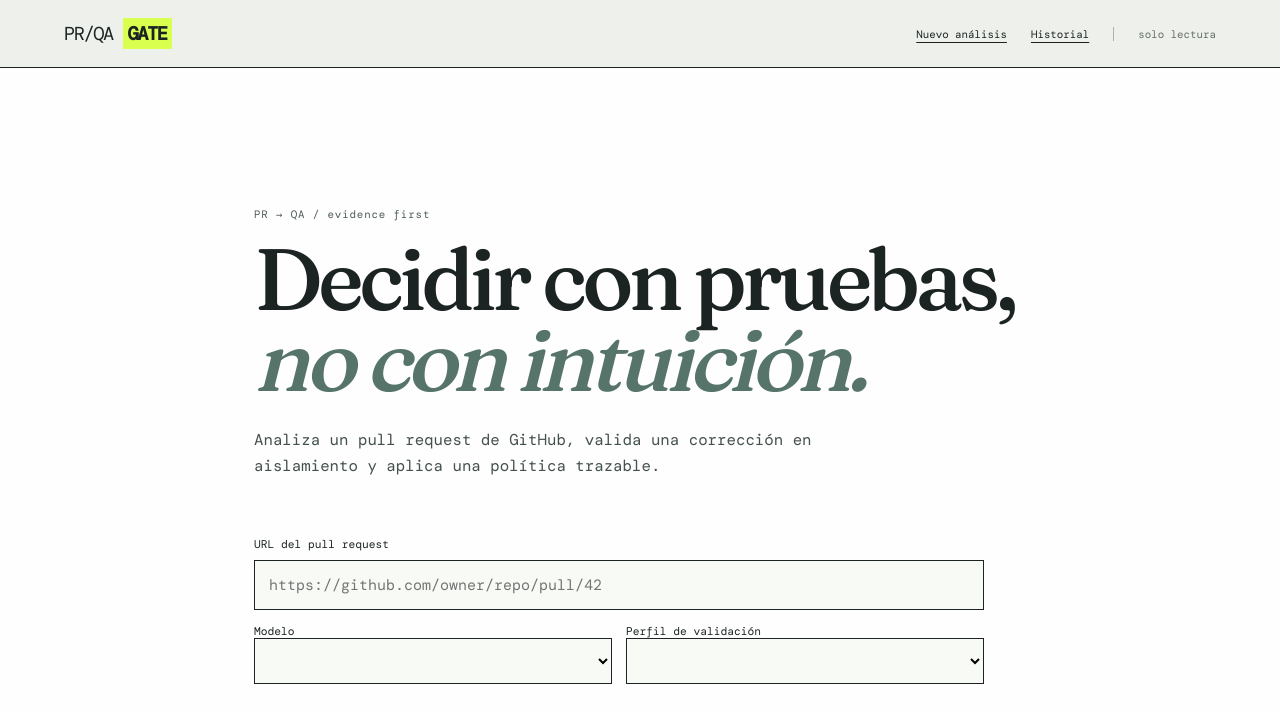
frontend vertical slice › loads profiles, submits analysis and navigates to the simulated report
Type "https://github.com/acme/shop/pull/1" into the field labelled "URL del pull request" at point(619, 585), box [254, 560, 984, 610]
(page scrolled)
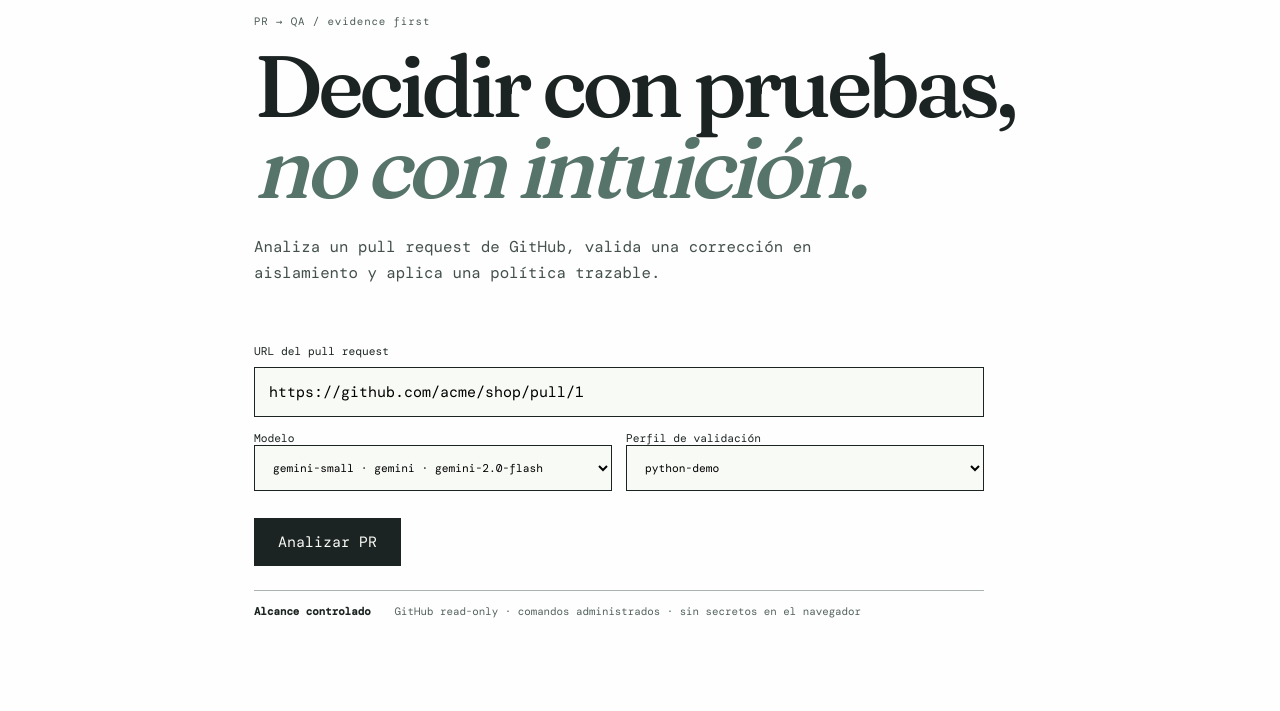
Click the button "Analizar PR" at point(328, 542), box [254, 518, 401, 566]
(page scrolled)
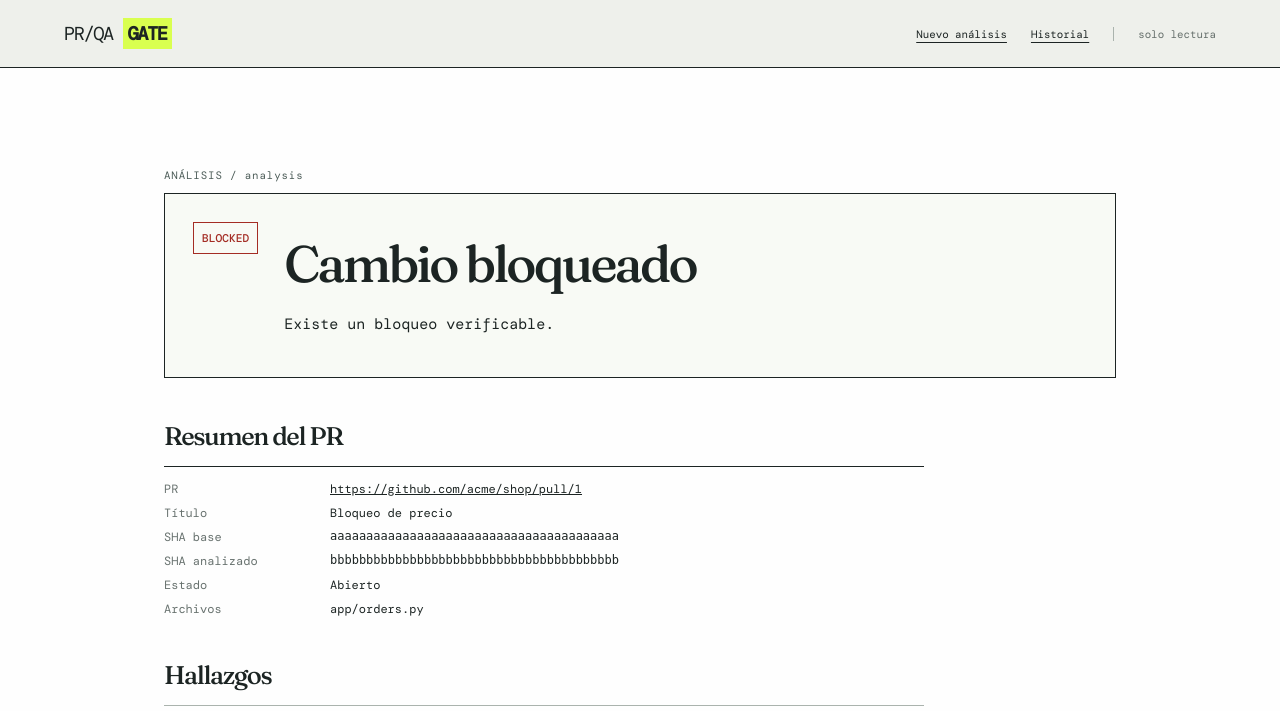
Now the text "Existe un bloqueo verificable." is shown, box [284, 314, 554, 334]
